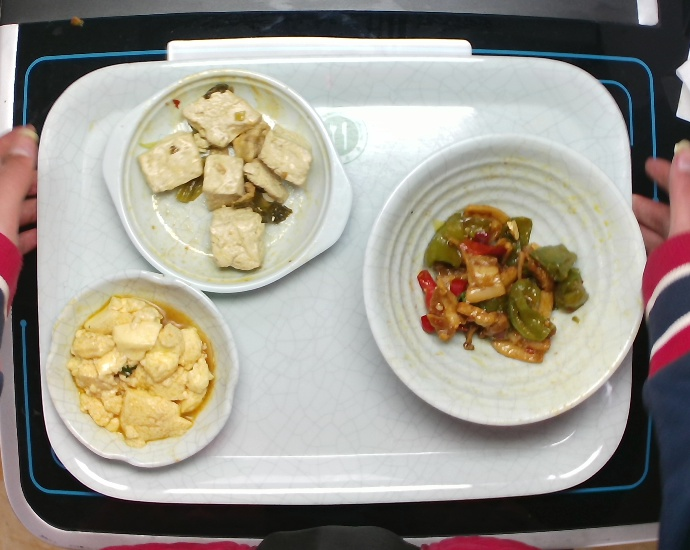JYsf-Ao_Yuan_Wan: (44, 266, 246, 481)
JYsf-Shuang_Er_Pan: (93, 61, 362, 303)
JYsf-Xiao_Tang_Wan: (356, 128, 656, 434)
